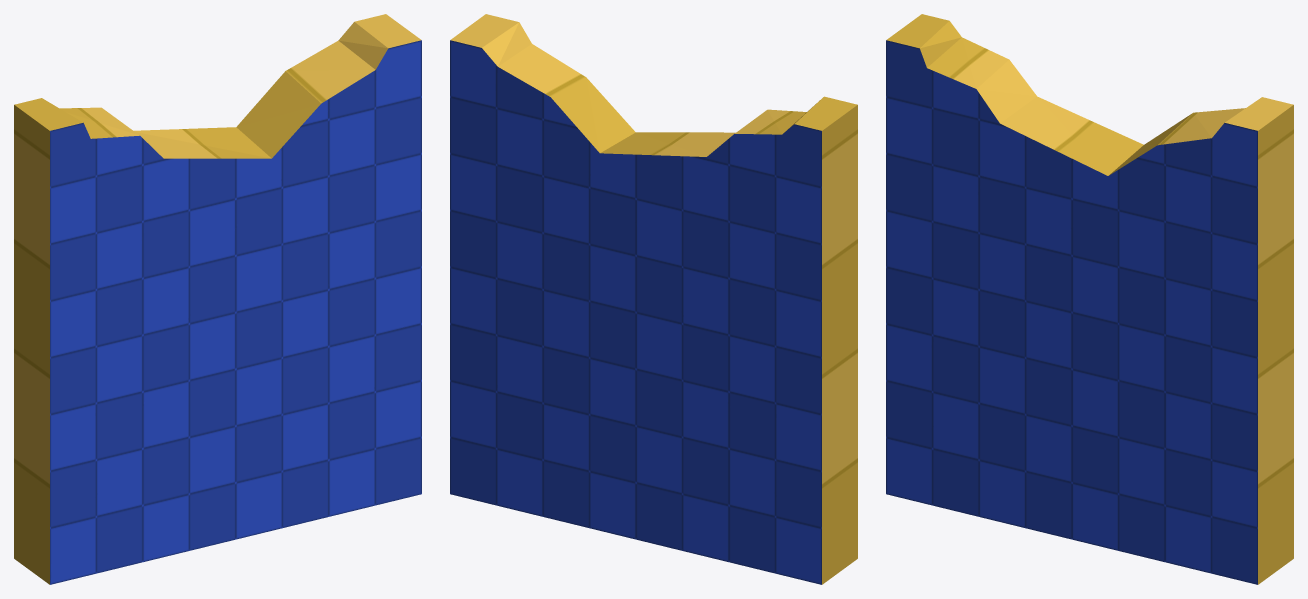
Rendered from WallBr3m.fbx.
The picture shows the model from 3 angles, left to right: view 1: azimuth 30°, elevation 25°; view 2: azimuth 150°, elevation 25°; view 3: azimuth 330°, elevation 25°; orthographic projection.
Parts seen in each view (by area): view 1: WallBr3m; view 2: WallBr3m; view 3: WallBr3m.
Part boxes in pixels (<box>): WallBr3m: <box>14,14,421,584</box>; WallBr3m: <box>450,14,857,584</box>; WallBr3m: <box>886,14,1293,584</box>.
Size of the model in its own units: 300 by 50 by 350.
